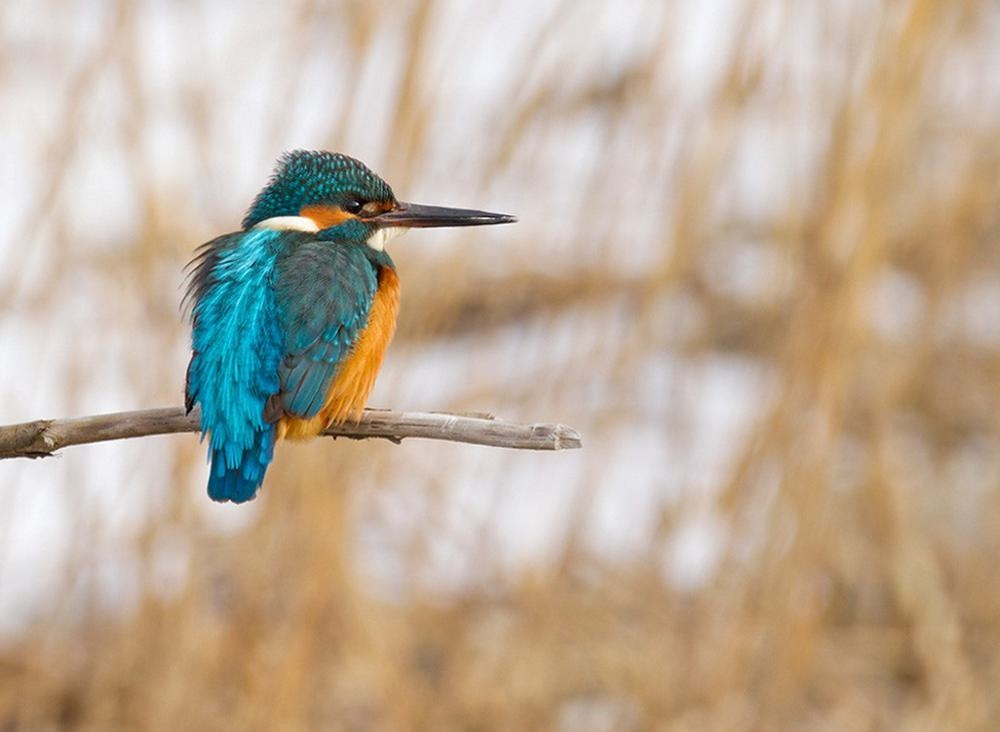kingfisher: (167, 147, 534, 520)
